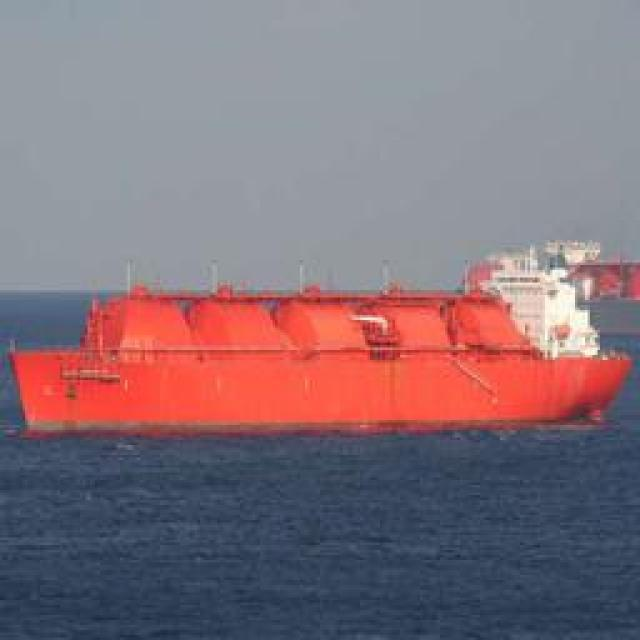CIV_Ship: (8, 268, 632, 430)
